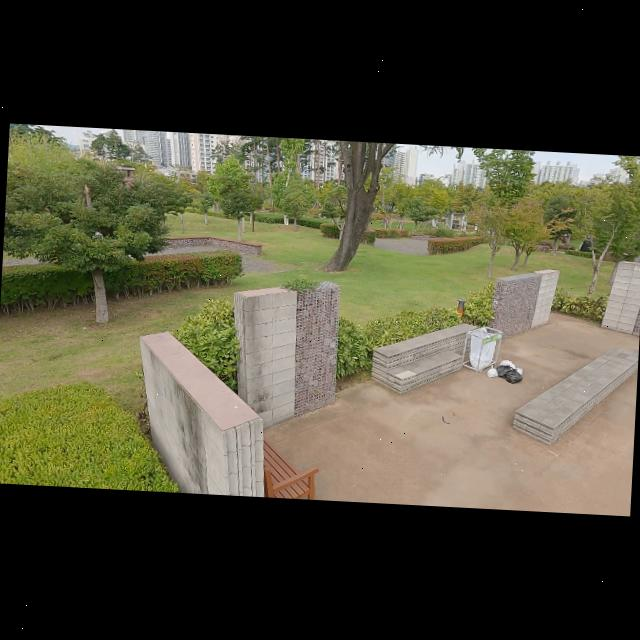trash: (502, 366, 524, 384), (494, 362, 515, 378), (498, 356, 516, 372), (485, 364, 500, 378), (511, 364, 524, 379)
